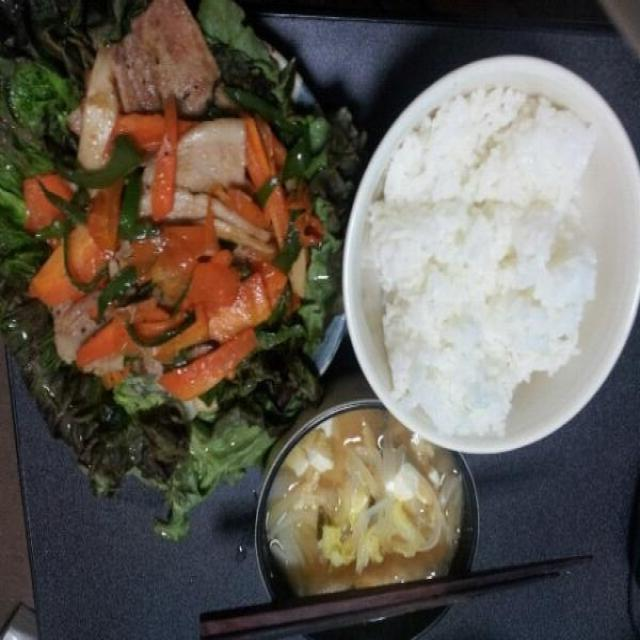Rice: (360, 97, 594, 443)
